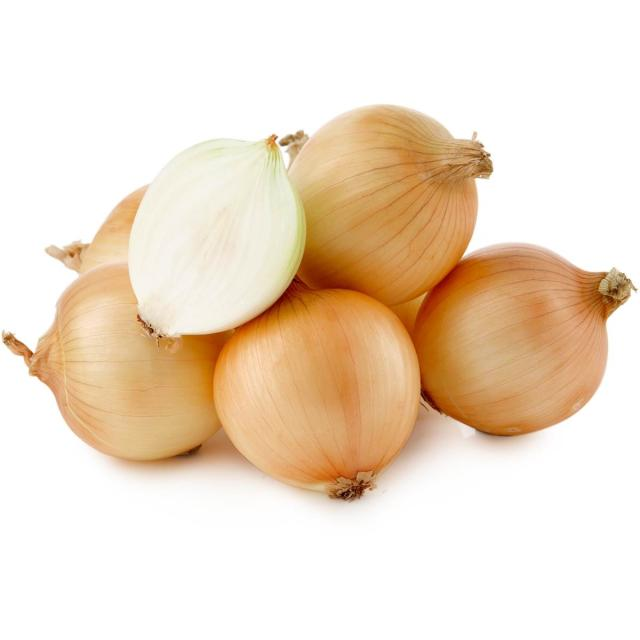onion: (401, 239, 640, 441), (222, 289, 428, 499), (118, 134, 317, 350), (19, 263, 220, 468), (284, 100, 489, 296)
